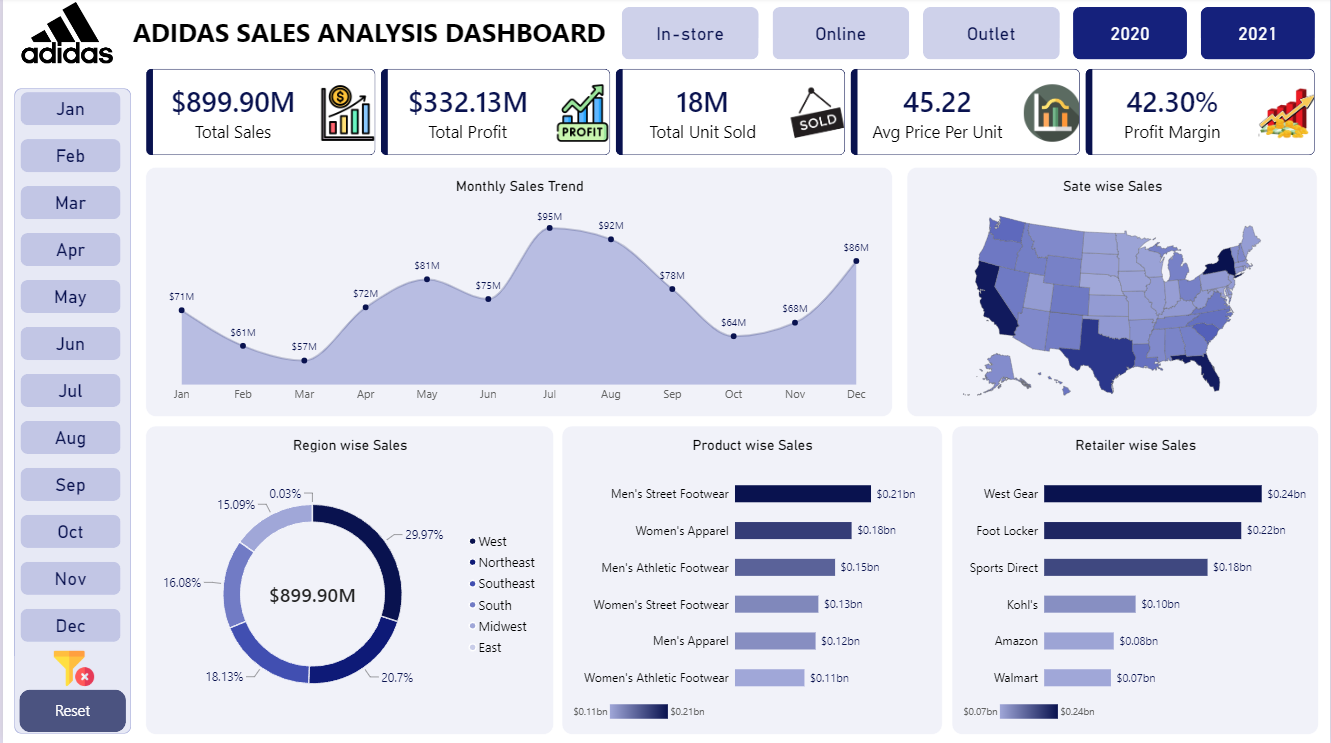

Layout of this report page (visuals, bound fields, positions):
{"tool":"powerbi","page":{"name":"ADIDAS SALES ANALYSIS DASHBOARD","canvas":[1920,1080],"ordinal":0},"visuals":[{"type":"cardVisual","fields":{"Data":["Data Sales Adidas.Total Sales","Data Sales Adidas.Total Profit","Data Sales Adidas.Total Unit Sold","Data Sales Adidas.Avg Price Per Unit","Data Sales Adidas.Profit Margin"]},"box":[205.5,103.6,1698.2,127.3],"z":0},{"type":"image","box":[0,7.3,185.5,89.1],"z":1000},{"type":"textbox","box":[185.5,14.5,690.9,76.4],"z":2000},{"type":"shape","box":[16.4,132.7,169.1,934.5],"z":3000},{"type":"areaChart","title":"Monthly Sales Trend","fields":{"Category":["Data Sales Adidas.Month"],"Y":["Data Sales Adidas.Total Sales"]},"box":[205.5,245.5,1081.8,361.8],"z":4000},{"type":"shapeMap","title":"Sate wise Sales","fields":{"Category":["Data Sales Adidas.State"],"Value":["Data Sales Adidas.Total Sales"]},"box":[1309.1,245.5,594.5,361.8],"z":5000},{"type":"donutChart","title":"Region wise Sales","fields":{"Category":["Data Sales Adidas.Region"],"Y":["Data Sales Adidas.Total Sales"]},"box":[205.5,620,590.9,447.3],"z":6000},{"type":"clusteredBarChart","title":"Product wise Sales","fields":{"Category":["Data Sales Adidas.Product"],"Y":["Data Sales Adidas.Total Sales"]},"box":[809.1,620,550.9,447.3],"z":7000},{"type":"clusteredBarChart","title":"Retailer wise Sales","fields":{"Category":["Data Sales Adidas.Retailer"],"Y":["Data Sales Adidas.Total Sales"]},"box":[1372.7,620,530.9,447.3],"z":8000},{"type":"advancedSlicerVisual","fields":{"Values":["Data Sales Adidas.Sales Method"]},"box":[876.4,14.5,674.5,76.4],"z":9000},{"type":"advancedSlicerVisual","fields":{"Values":["Data Sales Adidas.Invoice Date.Variation.Date Hierarchy.Year"]},"box":[1529.1,14.5,390.9,76.4],"z":10000},{"type":"advancedSlicerVisual","fields":{"Values":["Data Sales Adidas.Month"]},"box":[25.5,118.2,145.5,847.3],"z":11000},{"type":"image","box":[34.5,943.6,136.4,58.2],"z":12000},{"type":"actionButton","box":[23.6,1001.8,154.5,61.8],"z":13000}]}

Visuals, with their boxes in screenshot pixels (x1, y1, x2, y2), scaled from the page's 1920x1080 canvas onto the 1331x743 screenshot:
cardVisual - Data Sales Adidas.Total Sales x Data Sales Adidas.Total Profit: <bbox>142, 71, 1320, 159</bbox>
image: <bbox>0, 5, 129, 66</bbox>
textbox: <bbox>129, 10, 608, 63</bbox>
shape: <bbox>11, 91, 129, 734</bbox>
"Monthly Sales Trend" areaChart: <bbox>142, 169, 892, 418</bbox>
"Sate wise Sales" shapeMap: <bbox>908, 169, 1320, 418</bbox>
"Region wise Sales" donutChart: <bbox>142, 427, 552, 734</bbox>
"Product wise Sales" clusteredBarChart: <bbox>561, 427, 943, 734</bbox>
"Retailer wise Sales" clusteredBarChart: <bbox>952, 427, 1320, 734</bbox>
advancedSlicerVisual - Data Sales Adidas.Sales Method: <bbox>608, 10, 1075, 63</bbox>
advancedSlicerVisual - Data Sales Adidas.Invoice Date.Variation.Date Hierarchy.Year: <bbox>1060, 10, 1330, 63</bbox>
advancedSlicerVisual - Data Sales Adidas.Month: <bbox>18, 81, 119, 664</bbox>
image: <bbox>24, 649, 118, 689</bbox>
actionButton: <bbox>16, 689, 123, 732</bbox>
